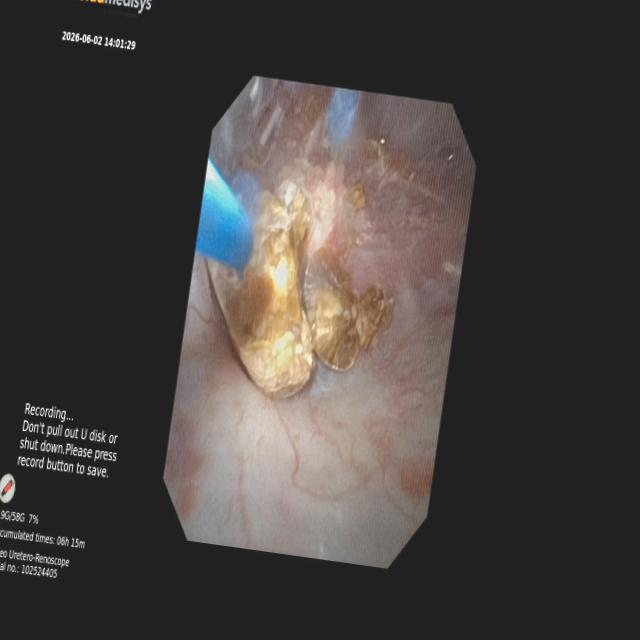laser-fibre: (246, 241, 271, 280)
laser_dot: (270, 258, 287, 292)
stone-new: (207, 184, 315, 397), (303, 250, 393, 371)
